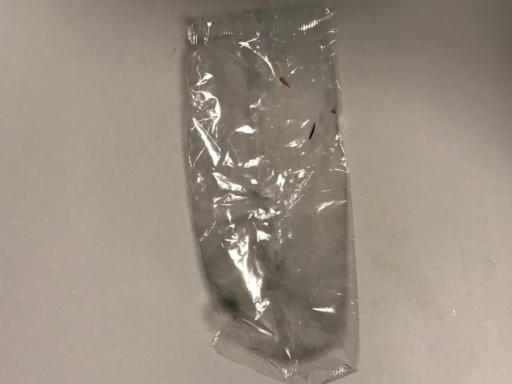trash: (179, 6, 360, 377)
